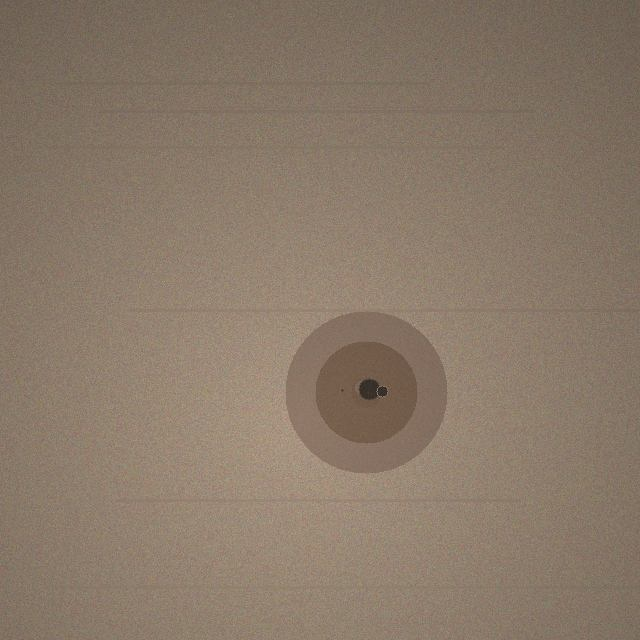shrinkage: (285, 311, 447, 473)
